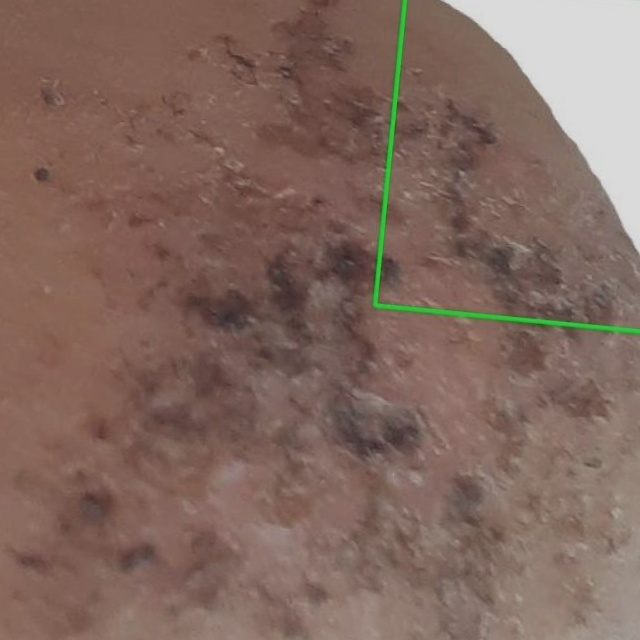Contact Dermatitis: (374, 0, 639, 329)
